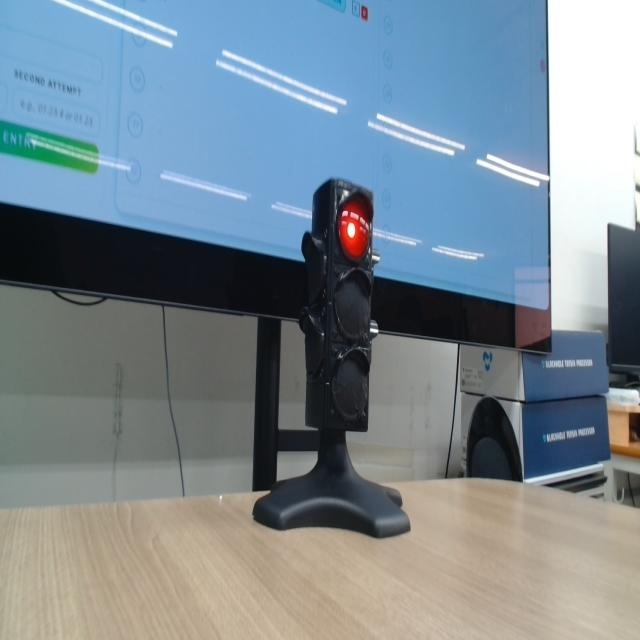red_light: (338, 199, 371, 260)
